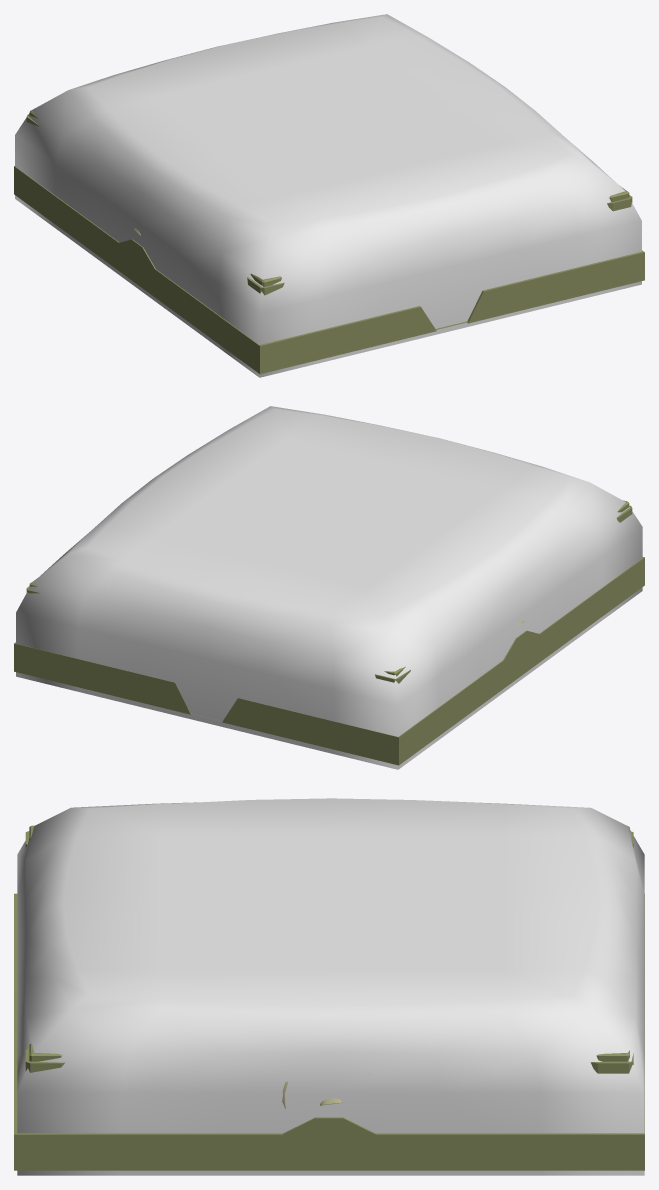
The model's file is Castle.fbx.
3 renders of one model, top to bottom at view 1: azimuth 30°, elevation 25°; view 2: azimuth 150°, elevation 25°; view 3: azimuth 270°, elevation 25°, orthographic. The views are drawn at different scales.
Parts seen in each view (by area): view 1: Couple, corner_out003, tunnel_vertical002; view 2: Couple, corner_out003, tunnel_vertical002; view 3: Couple, corner_out003, tunnel_vertical002.
Part boxes in pixels (x1=…): Couple: x1=15, y1=14, x2=641, y2=377; corner_out003: x1=14, y1=110, x2=644, y2=374; tunnel_vertical002: x1=119, y1=239, x2=155, y2=290; Couple: x1=16, y1=406, x2=642, y2=769; corner_out003: x1=14, y1=500, x2=644, y2=765; tunnel_vertical002: x1=503, y1=630, x2=539, y2=681; Couple: x1=17, y1=798, x2=644, y2=1175; corner_out003: x1=14, y1=825, x2=644, y2=1170; tunnel_vertical002: x1=283, y1=1117, x2=375, y2=1170.
Size of the model in its own units: 3408 by 1025 by 3769.
